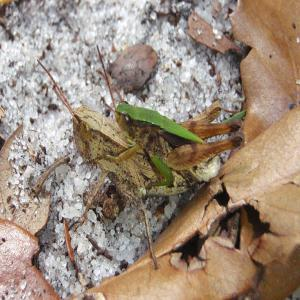locust: (98, 60, 222, 165)
